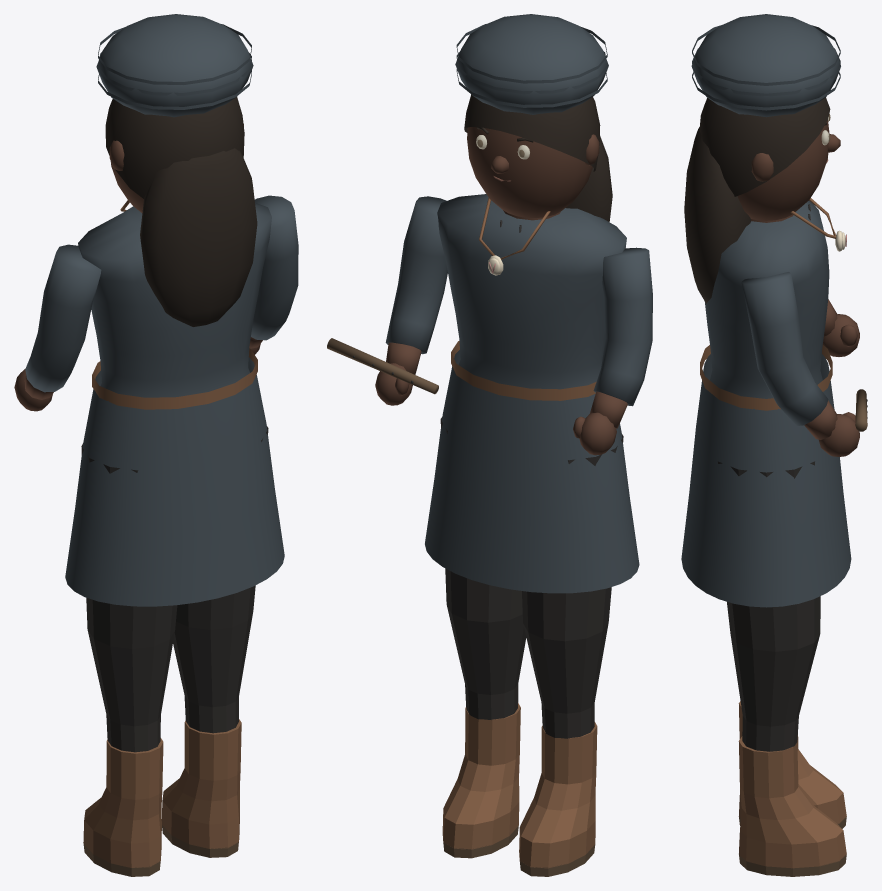
The model's file is SM_NPC_HUMO.glb.
3 renders of one model, left to right at view 1: azimuth 30°, elevation 25°; view 2: azimuth 150°, elevation 25°; view 3: azimuth 270°, elevation 25°, orthographic. The views are drawn at different scales.
Visible parts, largest first — view 1: SM_NPC_HUMO_BODY, SM_NPC_HUMO_HAIR, SM_NPC_HUMO_LEG_L, SM_NPC_HUMO_LEG_R, SM_NPC_HUMO_ARM_L, SM_NPC_HUMO_ARM_R, SM_NPC_HUMO_HEAD; view 2: SM_NPC_HUMO_BODY, SM_NPC_HUMO_LEG_L, SM_NPC_HUMO_HAIR, SM_NPC_HUMO_LEG_R, SM_NPC_HUMO_ARM_L, SM_NPC_HUMO_ARM_R, SM_NPC_HUMO_HEAD; view 3: SM_NPC_HUMO_BODY, SM_NPC_HUMO_HAIR, SM_NPC_HUMO_LEG_R, SM_NPC_HUMO_ARM_R, SM_NPC_HUMO_HEAD, SM_NPC_HUMO_LEG_L, SM_NPC_HUMO_ARM_L.
Part boxes in pixels (bbox=[...]): SM_NPC_HUMO_BODY: bbox=[65, 200, 284, 606]; SM_NPC_HUMO_HAIR: bbox=[96, 14, 257, 326]; SM_NPC_HUMO_LEG_L: bbox=[81, 443, 177, 876]; SM_NPC_HUMO_LEG_R: bbox=[161, 426, 268, 857]; SM_NPC_HUMO_ARM_L: bbox=[14, 244, 101, 411]; SM_NPC_HUMO_ARM_R: bbox=[249, 195, 298, 354]; SM_NPC_HUMO_HEAD: bbox=[109, 124, 243, 212]; SM_NPC_HUMO_BODY: bbox=[425, 194, 639, 593]; SM_NPC_HUMO_LEG_L: bbox=[519, 433, 623, 876]; SM_NPC_HUMO_HAIR: bbox=[455, 14, 612, 221]; SM_NPC_HUMO_LEG_R: bbox=[440, 417, 526, 858]; SM_NPC_HUMO_ARM_L: bbox=[573, 247, 652, 455]; SM_NPC_HUMO_ARM_R: bbox=[327, 196, 447, 405]; SM_NPC_HUMO_HEAD: bbox=[467, 127, 599, 232]; SM_NPC_HUMO_BODY: bbox=[681, 198, 851, 607]; SM_NPC_HUMO_HAIR: bbox=[684, 14, 840, 303]; SM_NPC_HUMO_LEG_R: bbox=[717, 461, 846, 876]; SM_NPC_HUMO_ARM_R: bbox=[741, 272, 867, 456]; SM_NPC_HUMO_HEAD: bbox=[737, 120, 840, 220]; SM_NPC_HUMO_LEG_L: bbox=[738, 701, 846, 828]; SM_NPC_HUMO_ARM_L: bbox=[823, 299, 859, 356].
Size of the model in its own units: 0.6766 by 1.88 by 0.3866.
